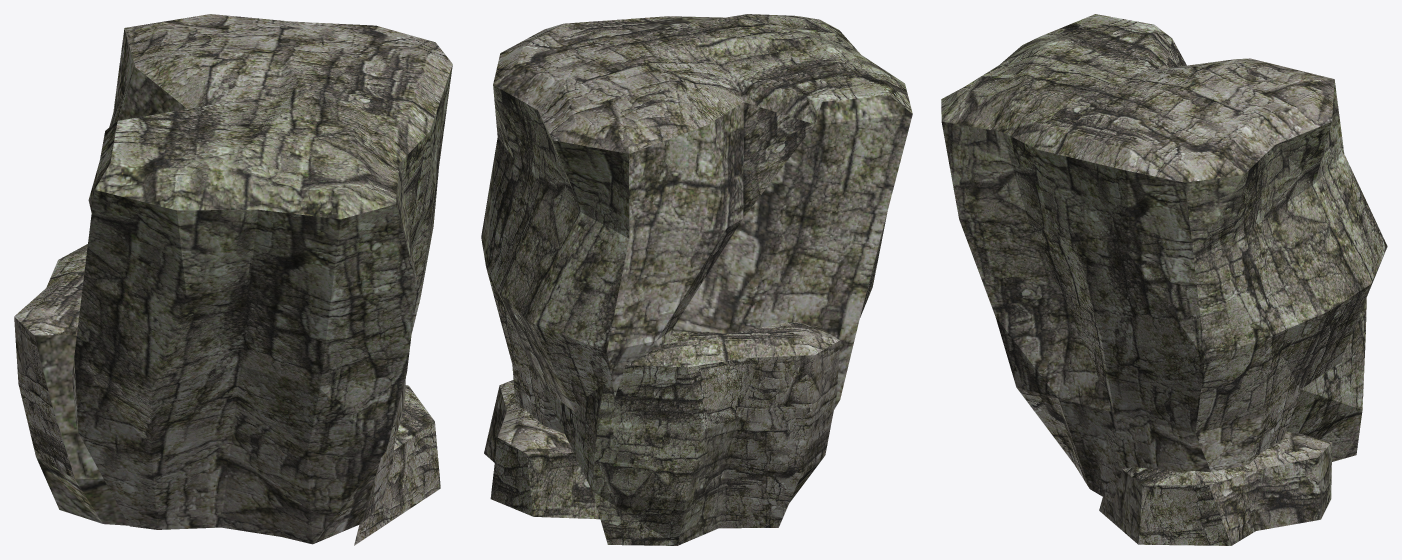
File: large_stone_a.glb
The picture shows the model from 3 angles, left to right: view 1: azimuth 30°, elevation 25°; view 2: azimuth 150°, elevation 25°; view 3: azimuth 270°, elevation 25°; orthographic projection. The views are drawn at different scales.
Parts seen in each view (by area): view 1: large_stone_a; view 2: large_stone_a; view 3: large_stone_a.
Boxes of the visible parts, box(x1,y1,x2,y2) form: large_stone_a: box(14, 14, 452, 545); large_stone_a: box(481, 14, 912, 545); large_stone_a: box(941, 14, 1387, 545).
Bounding box in the file's own units: 11.96 × 13.11 × 12.93.
1 material, 1 textured.
